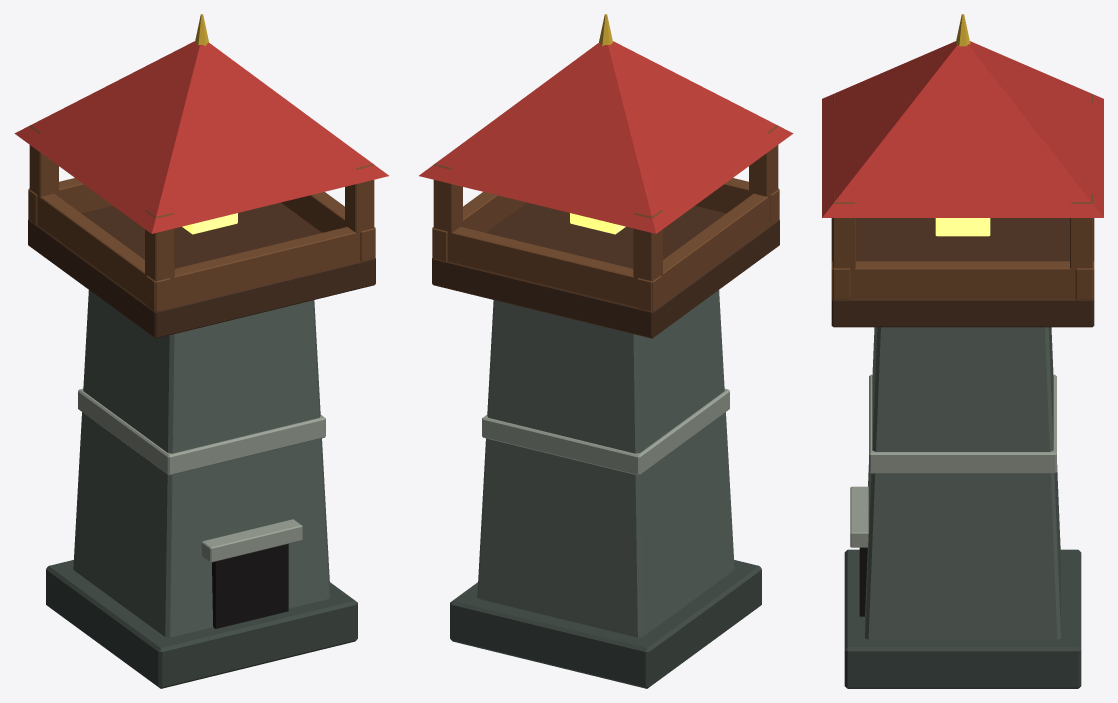
The model's file is EM_Watchtower.glb.
3 views of the same model, side by side, from view 1: azimuth 30°, elevation 25°; view 2: azimuth 150°, elevation 25°; view 3: azimuth 270°, elevation 25° (orthographic). The views are drawn at different scales.
Visible parts, largest first — view 1: EM_Watchtower__StoneBase, EM_Watchtower__RoofCrimson, EM_Watchtower__Timber, EM_Watchtower__TimberDark, EM_Watchtower__StoneDark, EM_Watchtower__StoneLight, EM_Watchtower__DoorVoid, EM_Watchtower__WarmGlow; view 2: EM_Watchtower__StoneBase, EM_Watchtower__RoofCrimson, EM_Watchtower__Timber, EM_Watchtower__StoneDark, EM_Watchtower__TimberDark, EM_Watchtower__StoneLight, EM_Watchtower__WarmGlow; view 3: EM_Watchtower__StoneBase, EM_Watchtower__RoofCrimson, EM_Watchtower__TimberDark, EM_Watchtower__StoneDark, EM_Watchtower__Timber, EM_Watchtower__StoneLight, EM_Watchtower__WarmGlow, EM_Watchtower__DoorVoid.
Boxes of the visible parts, <box> form: EM_Watchtower__StoneBase: <box>73,290,330,637</box>; EM_Watchtower__RoofCrimson: <box>14,41,388,233</box>; EM_Watchtower__Timber: <box>28,125,375,311</box>; EM_Watchtower__TimberDark: <box>28,202,375,338</box>; EM_Watchtower__StoneDark: <box>46,560,357,688</box>; EM_Watchtower__StoneLight: <box>78,388,325,562</box>; EM_Watchtower__DoorVoid: <box>212,544,288,628</box>; EM_Watchtower__WarmGlow: <box>182,213,237,234</box>; EM_Watchtower__StoneBase: <box>477,290,734,637</box>; EM_Watchtower__RoofCrimson: <box>419,41,793,233</box>; EM_Watchtower__Timber: <box>432,125,779,311</box>; EM_Watchtower__StoneDark: <box>450,560,761,688</box>; EM_Watchtower__TimberDark: <box>432,202,779,338</box>; EM_Watchtower__StoneLight: <box>482,388,729,475</box>; EM_Watchtower__WarmGlow: <box>570,213,625,234</box>; EM_Watchtower__StoneBase: <box>865,327,1060,639</box>; EM_Watchtower__RoofCrimson: <box>822,41,1103,217</box>; EM_Watchtower__TimberDark: <box>831,218,1094,327</box>; EM_Watchtower__StoneDark: <box>844,549,1081,688</box>; EM_Watchtower__Timber: <box>831,94,1094,299</box>; EM_Watchtower__StoneLight: <box>850,374,1056,547</box>; EM_Watchtower__WarmGlow: <box>935,218,990,236</box>; EM_Watchtower__DoorVoid: <box>859,547,867,616</box>.
Bounding box in the file's own units: 19.52 × 47.8 × 19.52.
